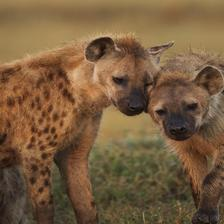hyena: (0, 20, 169, 224), (132, 44, 224, 220)
